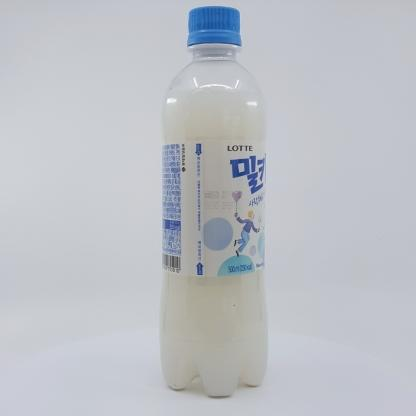-----500ML: (159, 6, 269, 397)
